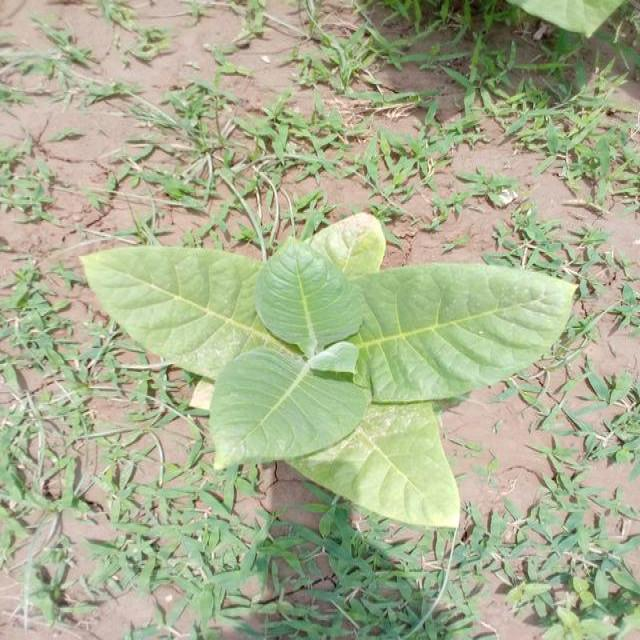crop: (90, 226, 572, 516), (524, 0, 625, 64)
